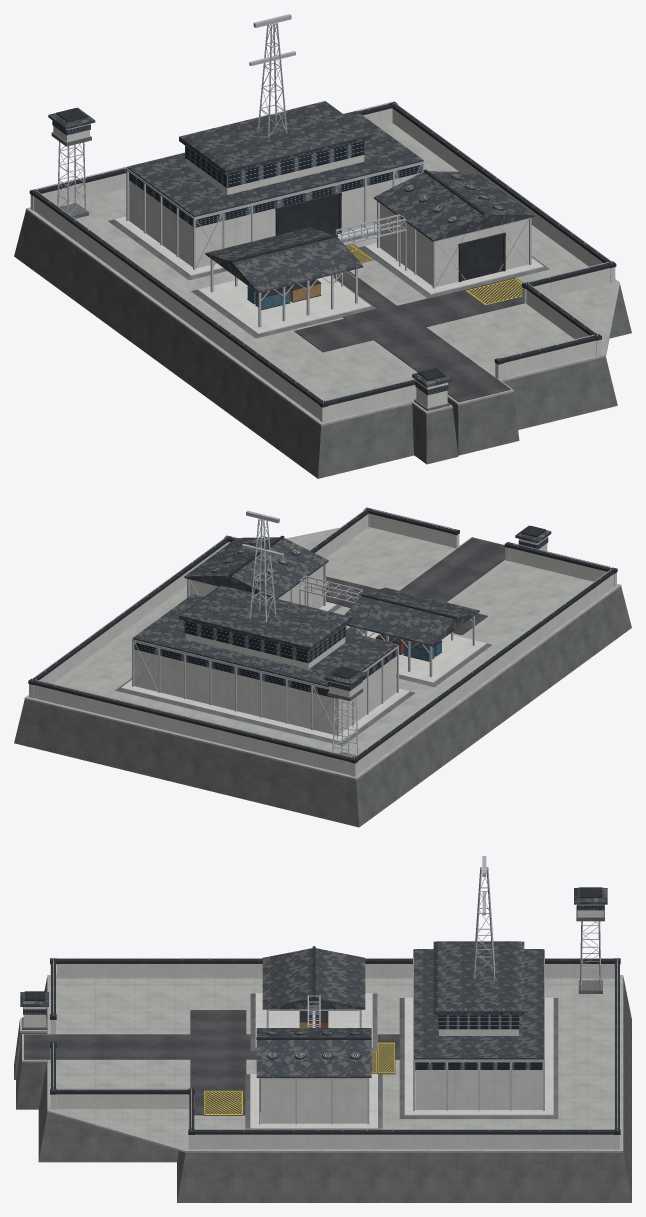
Rendered from naval_command_lvl2.glb.
The picture shows the model from 3 angles, top to bottom: view 1: azimuth 30°, elevation 25°; view 2: azimuth 150°, elevation 25°; view 3: azimuth 270°, elevation 25°; orthographic projection. The views are drawn at different scales.
Visible parts, largest first — view 1: NVC_L2_ConcDark, NVC_L2_ConcLight, NVC_L2_RoofCorr, NVC_L2_ConcMid, NVC_L2_Asphalt, NVC_L2_SteelTruss, NVC_L2_SteelDark, NVC_L2_WindowDark, NVC_L2_DoorCorr, NVC_L2_HatchZone; view 2: NVC_L2_ConcDark, NVC_L2_ConcLight, NVC_L2_ConcMid, NVC_L2_RoofCorr, NVC_L2_SteelTruss, NVC_L2_SteelDark, NVC_L2_Asphalt, NVC_L2_WindowDark; view 3: NVC_L2_ConcDark, NVC_L2_ConcMid, NVC_L2_ConcLight, NVC_L2_RoofCorr, NVC_L2_Asphalt, NVC_L2_SteelDark, NVC_L2_SteelTruss, NVC_L2_WindowDark, NVC_L2_HatchZone.
Boxes of the visible parts, x1,y1,x2,y2 form: NVC_L2_ConcDark: (14,132,631,478); NVC_L2_ConcLight: (30,108,615,422); NVC_L2_RoofCorr: (48,101,534,387); NVC_L2_ConcMid: (26,123,619,426); NVC_L2_Asphalt: (294,271,524,402); NVC_L2_SteelTruss: (34,14,611,402); NVC_L2_SteelDark: (29,101,616,407); NVC_L2_WindowDark: (52,120,448,395); NVC_L2_DoorCorr: (278,196,503,281); NVC_L2_HatchZone: (345,243,522,305); NVC_L2_ConcDark: (14,586,631,827); NVC_L2_ConcLight: (29,513,616,776); NVC_L2_ConcMid: (24,527,621,780); NVC_L2_RoofCorr: (132,525,551,687); NVC_L2_SteelTruss: (32,507,613,758); NVC_L2_SteelDark: (28,507,617,763); NVC_L2_Asphalt: (326,537,505,635); NVC_L2_WindowDark: (134,537,548,698); NVC_L2_ConcDark: (14,905,631,1202); NVC_L2_ConcMid: (20,975,623,1152); NVC_L2_ConcLight: (23,904,619,1149); NVC_L2_RoofCorr: (20,887,607,1077); NVC_L2_Asphalt: (24,1010,399,1115); NVC_L2_SteelDark: (24,887,620,1134); NVC_L2_SteelTruss: (53,856,617,1131); NVC_L2_WindowDark: (23,904,604,1069); NVC_L2_HatchZone: (203,1042,395,1115).
Bounding box in the file's own units: 81.5 × 50.2 × 116.
14 materials, 14 textured.
